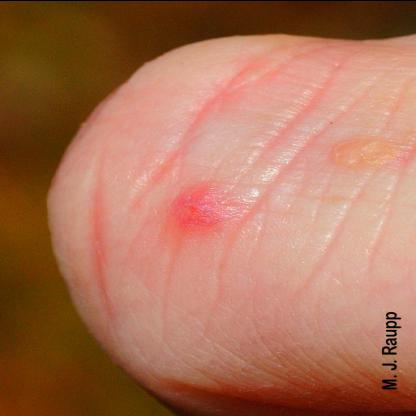Fire ant: (166, 184, 232, 237), (328, 128, 404, 174)
